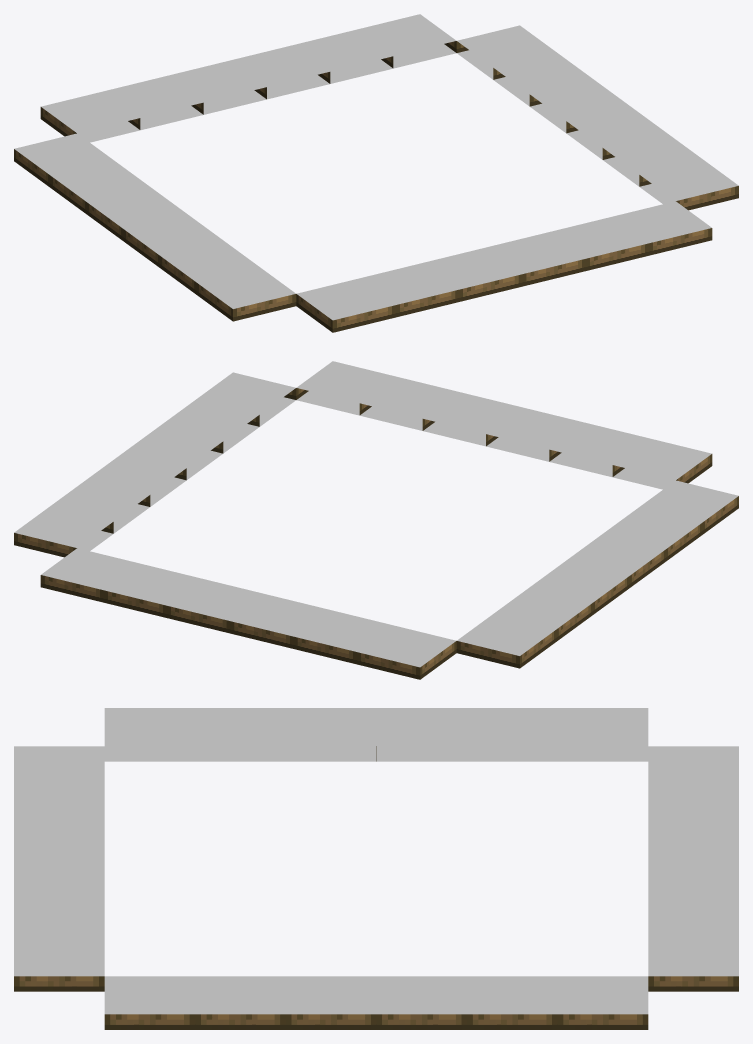
Rendered from trapdoor_combined_2a_lod0.fbx.
3 renders of one model, top to bottom at view 1: azimuth 30°, elevation 25°; view 2: azimuth 150°, elevation 25°; view 3: azimuth 270°, elevation 25°, orthographic. The views are drawn at different scales.
Parts seen in each view (by area): view 1: trapdoor_combined_2a_lod0; view 2: trapdoor_combined_2a_lod0; view 3: trapdoor_combined_2a_lod0.
Boxes of the visible parts, x1,y1,x2,y2 form: trapdoor_combined_2a_lod0: [14, 14, 738, 332]; trapdoor_combined_2a_lod0: [14, 361, 738, 679]; trapdoor_combined_2a_lod0: [14, 708, 738, 1029].
Bounding box in the file's own units: 813 × 19.05 × 813.
